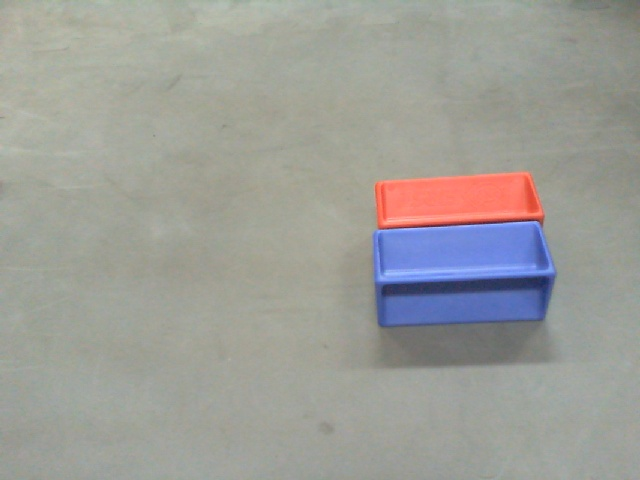BlueSample: (370, 217, 557, 325)
RedSample: (369, 170, 546, 233)
